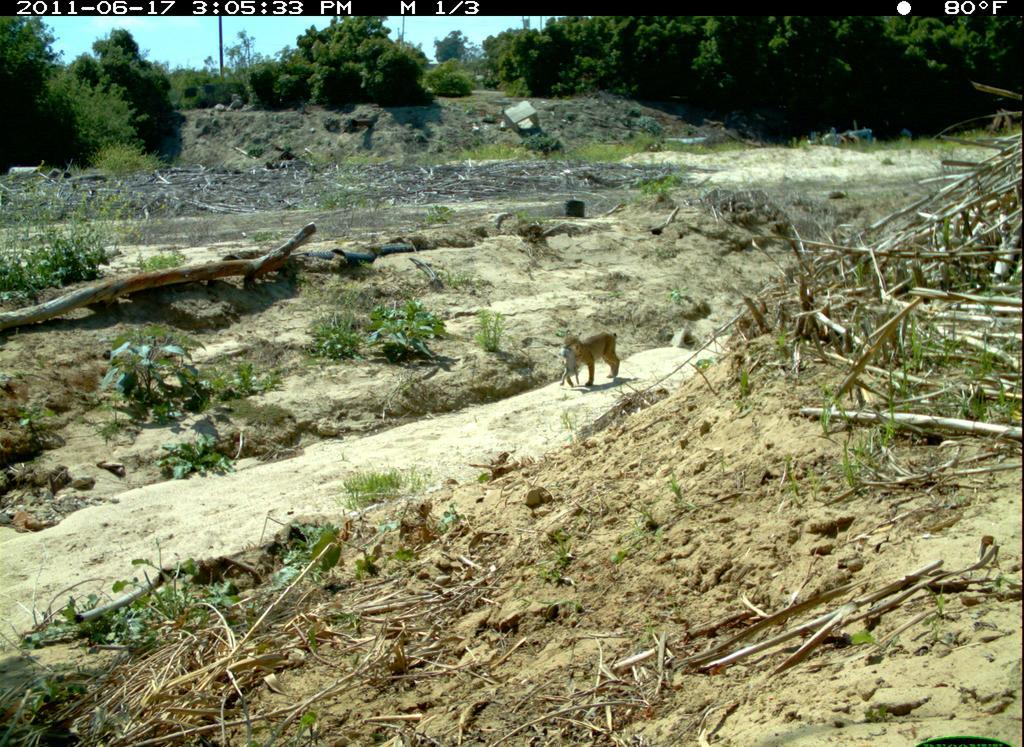bobcat: (553, 328, 624, 392)
